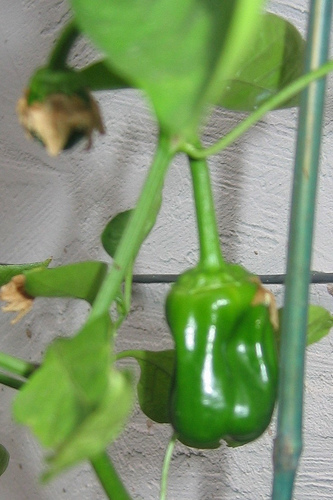capsicum: (162, 136, 281, 450)
